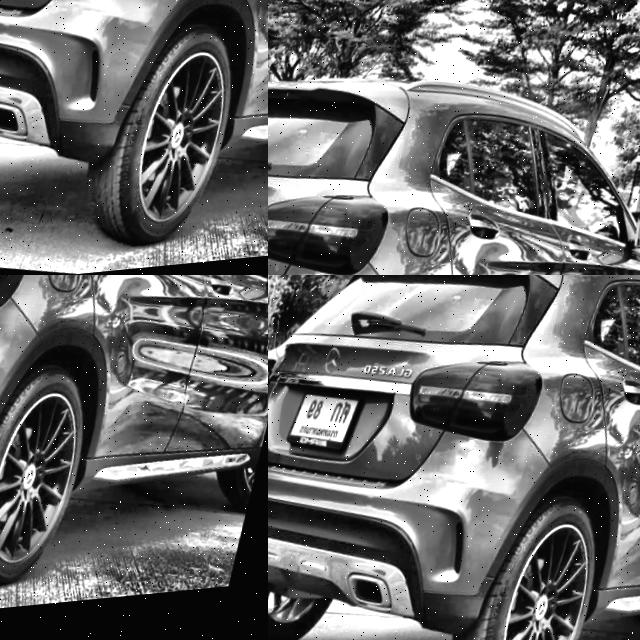license-plate: (286, 382, 368, 460)
